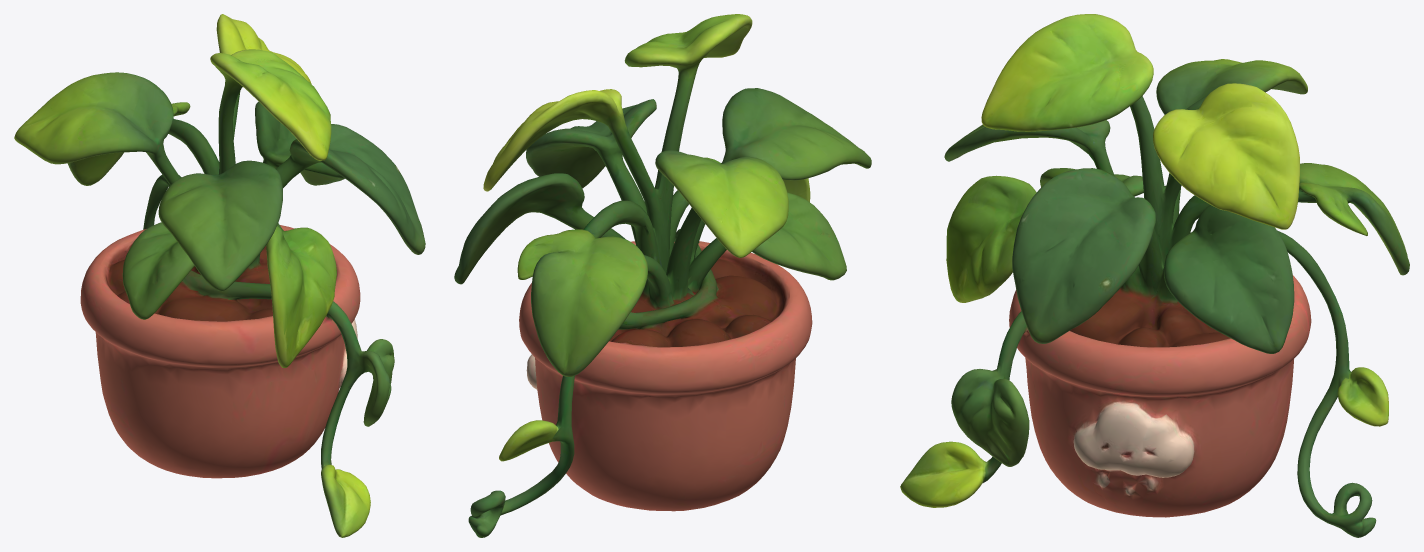
The model's file is room-pothos-planter.glb.
3 renders of one model, left to right at view 1: azimuth 30°, elevation 25°; view 2: azimuth 150°, elevation 25°; view 3: azimuth 270°, elevation 25°, orthographic. The views are drawn at different scales.
Parts seen in each view (by area): view 1: tripo_node_ed79e1d2-bd53-4588-85a9-ca22496009a5; view 2: tripo_node_ed79e1d2-bd53-4588-85a9-ca22496009a5; view 3: tripo_node_ed79e1d2-bd53-4588-85a9-ca22496009a5.
Boxes of the visible parts, box(x1,y1,x2,y2) form: tripo_node_ed79e1d2-bd53-4588-85a9-ca22496009a5: box(14, 14, 425, 537); tripo_node_ed79e1d2-bd53-4588-85a9-ca22496009a5: box(454, 14, 871, 537); tripo_node_ed79e1d2-bd53-4588-85a9-ca22496009a5: box(900, 14, 1409, 537).
Bounding box in the file's own units: 0.7205 × 0.9754 × 0.9732.
Materials: 1 (1 with a texture image).
